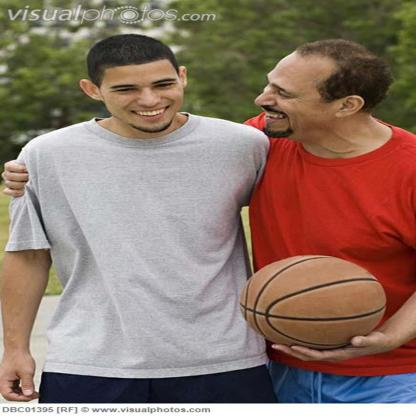face: (256, 51, 335, 138), (99, 59, 187, 134)
